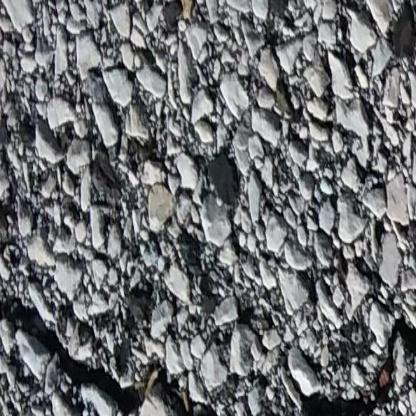Cracks: (0, 300, 232, 416), (260, 324, 416, 416)
